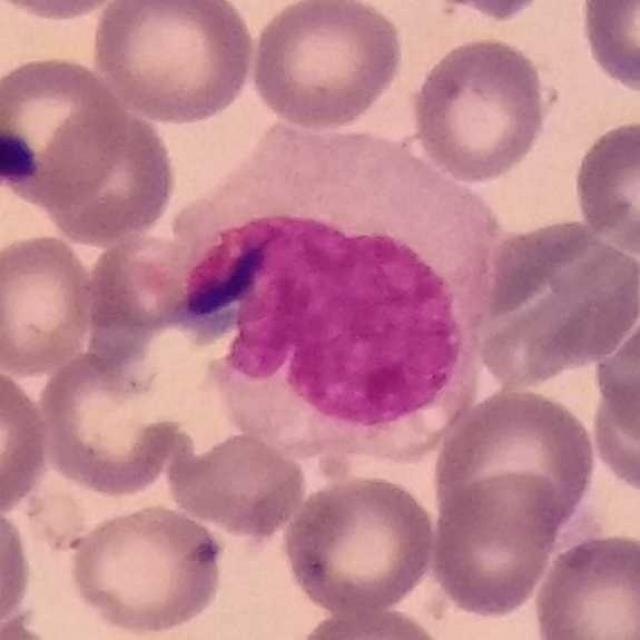mono: (173, 117, 503, 463)
